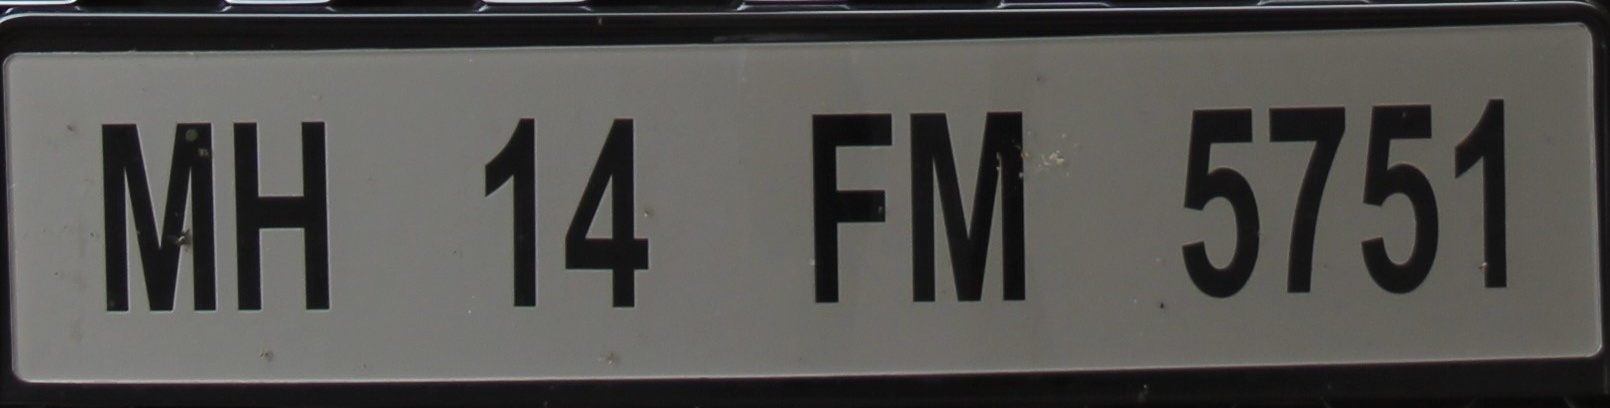character: (899, 99, 1037, 302), (93, 114, 216, 314), (231, 111, 334, 320), (1170, 88, 1266, 302), (552, 108, 652, 314), (1255, 97, 1352, 302), (1352, 91, 1443, 299), (805, 105, 899, 299), (1446, 88, 1522, 297), (475, 105, 546, 314)
